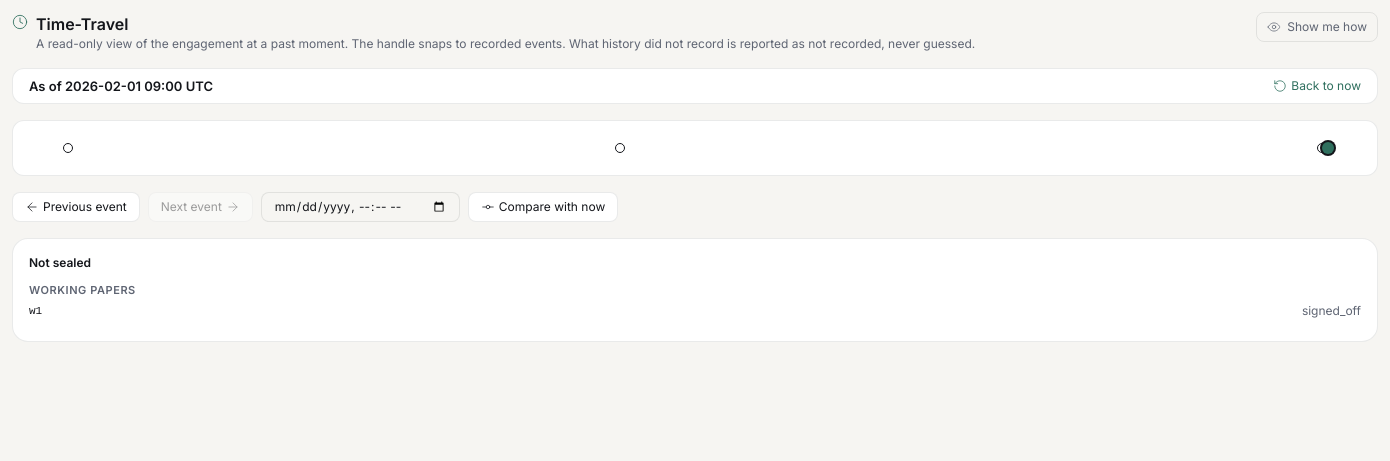
Test: WK-09 time-travel (F14) › compares the as-of state with now
The image size is (1390, 461).
Click the button with test id "wk-timetravel-compare".
click(543, 207)  # box [468,192,618,222]
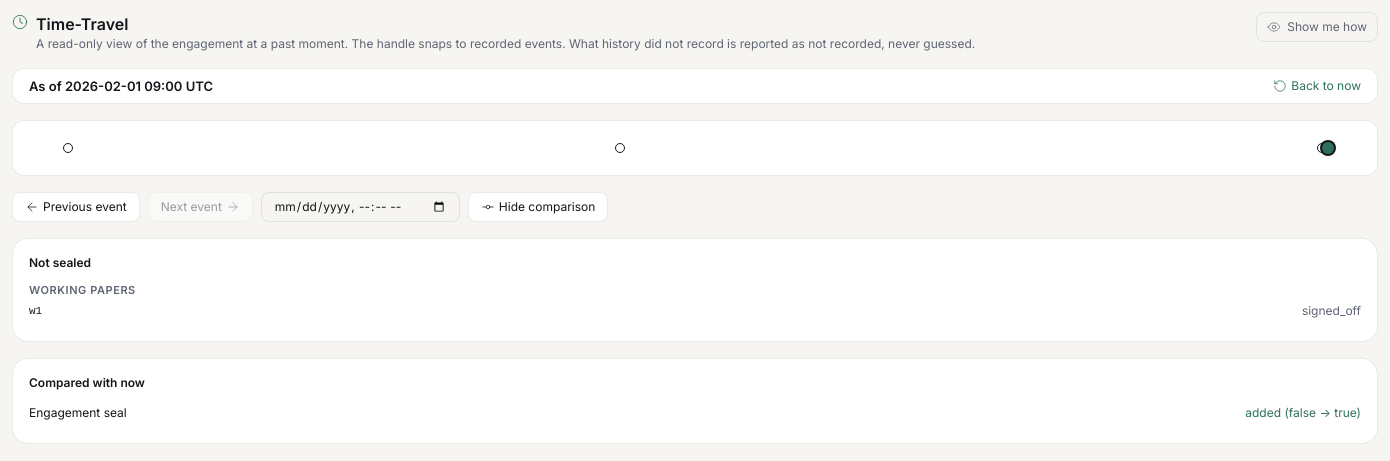
Expected: the element with test id "wk-timetravel-diff" is shown, [12,358,1378,444]
